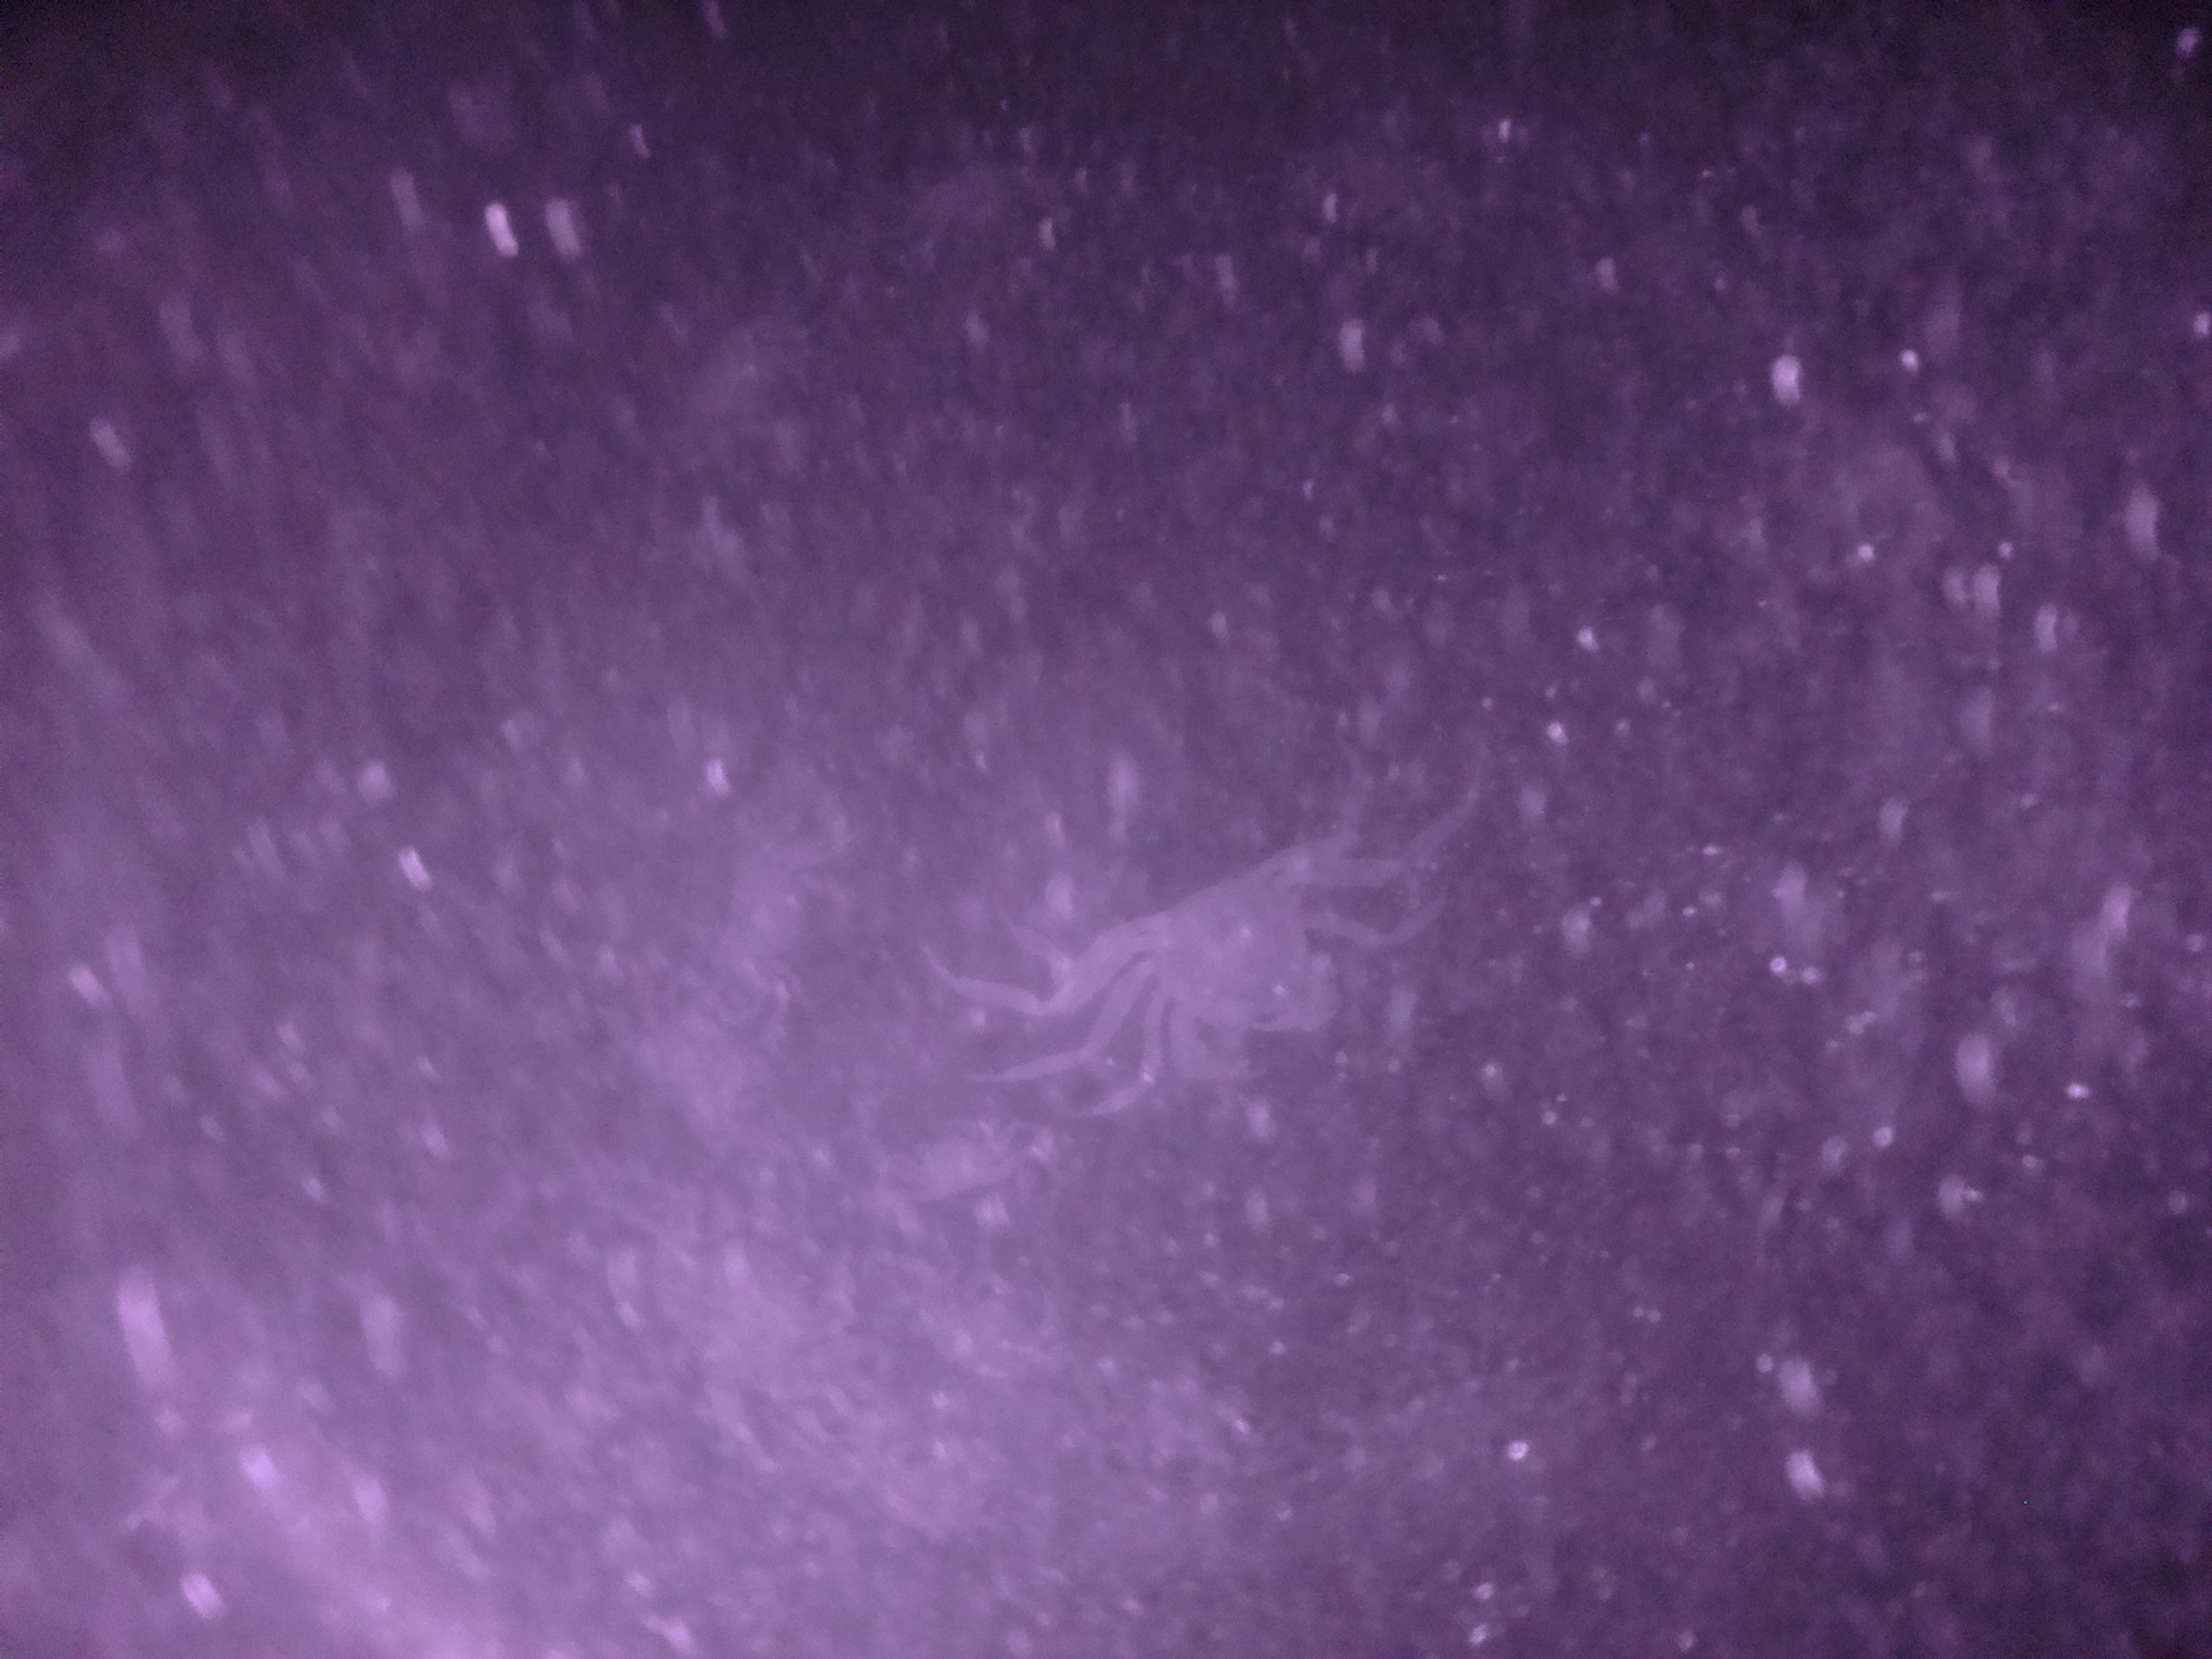Crab: (1021, 836, 1383, 1121)
